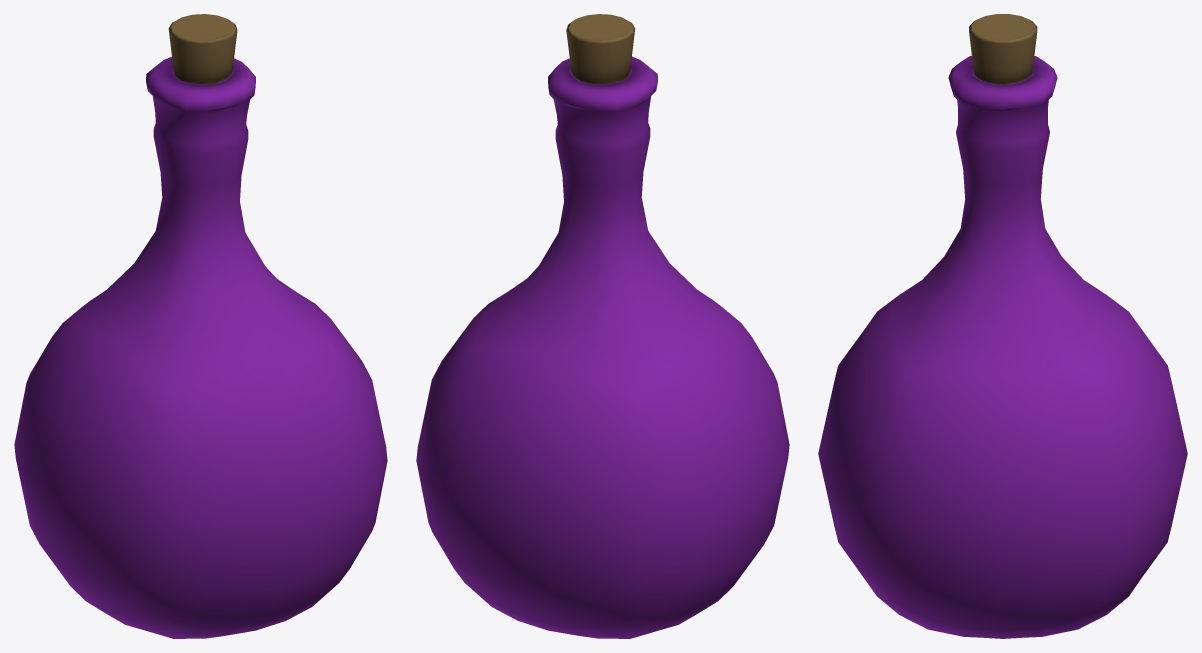
File: Alchemy Bottle 4.fbx
The picture shows the model from 3 angles, left to right: view 1: azimuth 30°, elevation 25°; view 2: azimuth 150°, elevation 25°; view 3: azimuth 270°, elevation 25°; orthographic projection.
Visible parts, largest first — view 1: Alchemy_Bottle_4; view 2: Alchemy_Bottle_4; view 3: Alchemy_Bottle_4.
Part boxes in pixels (box(x1,y1,x2,y2)): Alchemy_Bottle_4: box(14, 14, 387, 638); Alchemy_Bottle_4: box(416, 14, 789, 638); Alchemy_Bottle_4: box(818, 14, 1187, 638).
Bounding box in the file's own units: 13.02 × 22.74 × 13.02.
1 material, 1 textured.
